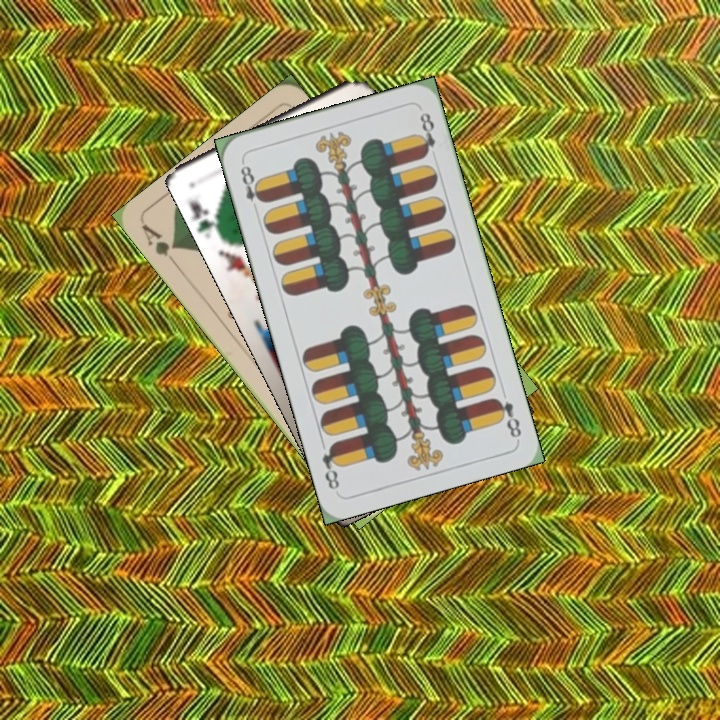E8: (236, 157, 268, 215), (489, 393, 524, 441)
GA: (138, 220, 180, 271)
GK: (184, 196, 223, 241)
